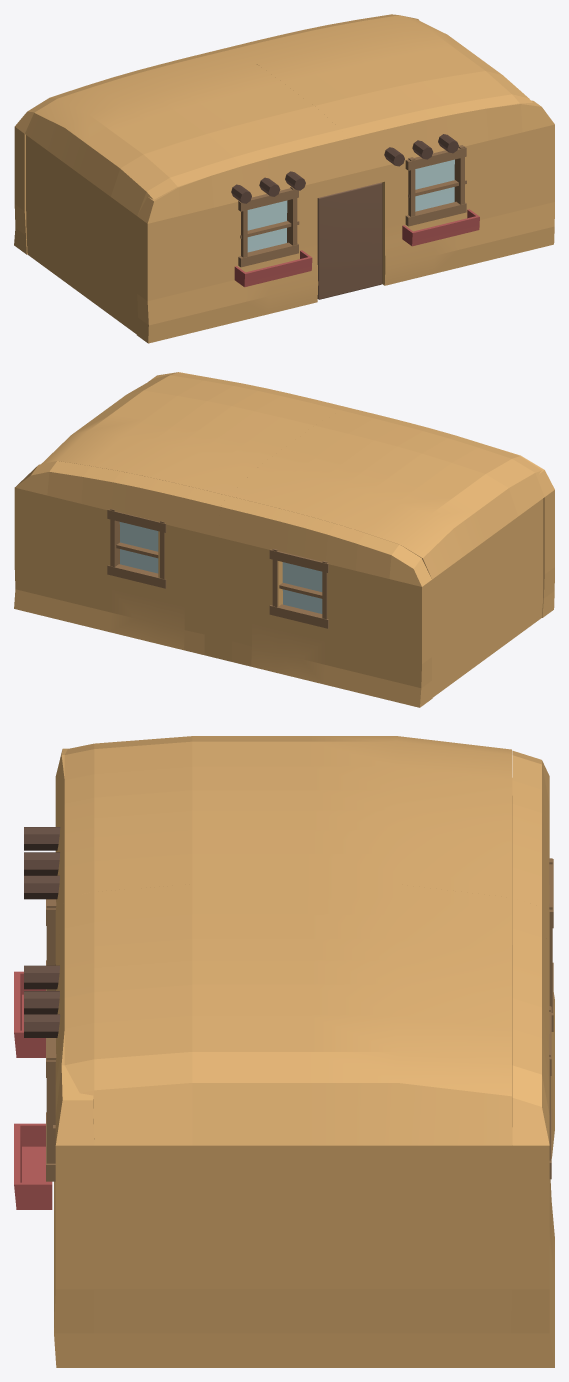
Rendered from atoll_tailorHouse.fbx.
The picture shows the model from 3 angles, top to bottom: view 1: azimuth 30°, elevation 25°; view 2: azimuth 150°, elevation 25°; view 3: azimuth 270°, elevation 25°; orthographic projection. The views are drawn at different scales.
Parts seen in each view (by area): view 1: Roof, FRONT, L_SIDE, dOOR, BACK, pPlane2 (×2), pCube7 (×2), pCube3 (×2), pCube2 (×2), pCube5 (×2); view 2: BACK, Roof, L_SIDE, pPlane2 (×2), FRONT, pCube3 (×2), pCube2 (×2), pCube4; view 3: Roof, R_SIDE, BACK, FRONT, pCube7 (×2), pCylinder1 (×2), pCylinder3 (×2), pCylinder2 (×2), pCube5.
Part boxes in pixels (box(x1,y1,x2,y2)): Roof: box(25, 15, 532, 215); FRONT: box(136, 100, 554, 343); L_SIDE: box(26, 135, 137, 333); dOOR: box(317, 182, 382, 299); BACK: box(14, 14, 419, 254); pPlane2 (×2): box(247, 159, 454, 252); pCube7 (×2): box(234, 209, 479, 287); pCube3 (×2): box(238, 201, 466, 267); pCube2 (×2): box(238, 146, 466, 211); pCube5 (×2): box(287, 145, 464, 245); BACK: box(14, 461, 432, 707); Roof: box(41, 372, 544, 579); L_SIDE: box(432, 498, 543, 697); pPlane2 (×2): box(119, 522, 322, 613); FRONT: box(148, 372, 554, 617); pCube3 (×2): box(107, 564, 328, 628); pCube2 (×2): box(107, 509, 328, 572); pCube4: box(110, 509, 119, 566); Roof: box(64, 736, 511, 1145); R_SIDE: box(94, 1127, 512, 1367); BACK: box(507, 750, 554, 1367); FRONT: box(54, 748, 99, 1367); pCube7 (×2): box(14, 971, 52, 1209); pCylinder1 (×2): box(24, 827, 60, 989); pCylinder3 (×2): box(24, 875, 60, 1037); pCylinder2 (×2): box(24, 852, 60, 1014); pCube5: box(46, 1054, 56, 1163).
Size of the model in its own units: 24.33 by 9.29 by 15.07.
